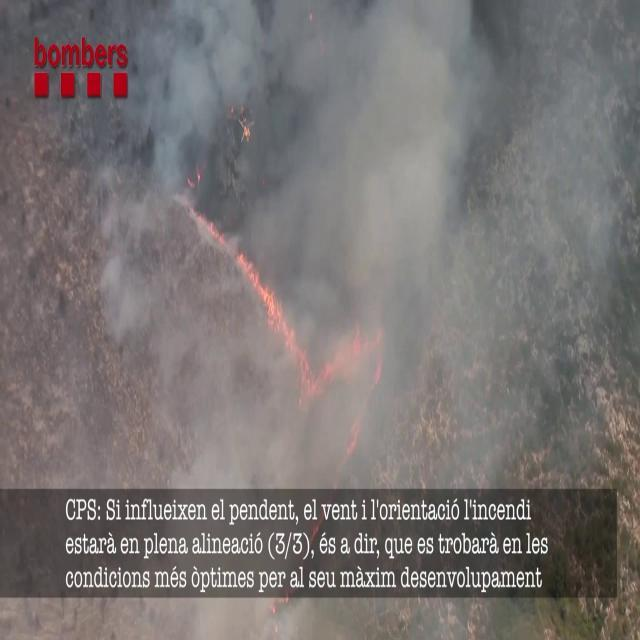Fire: (236, 242, 286, 336)
Smoke: (92, 1, 632, 488)
